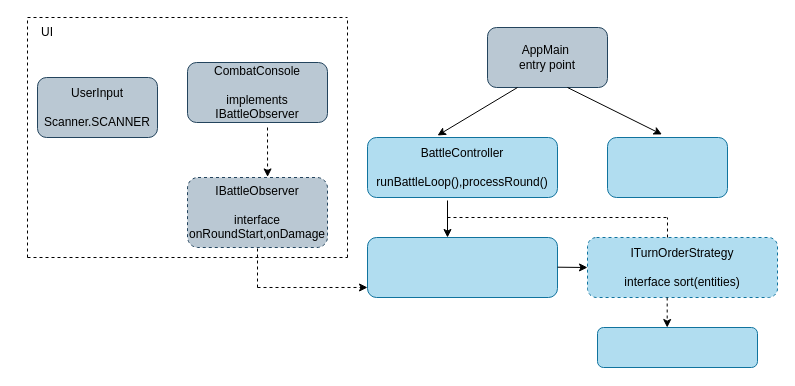
This 795x386 diagram has some shape labels left out. Each missing label, with the box of its shape:
BattleContext getEntities(), getObserver(): (366, 236, 558, 298)
GameInitialiser start(), startReplay(): (606, 136, 728, 198)
SpeedComparator sort by speed desc: (596, 326, 758, 368)
